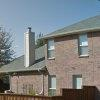Chimney: (13, 19, 45, 70)
